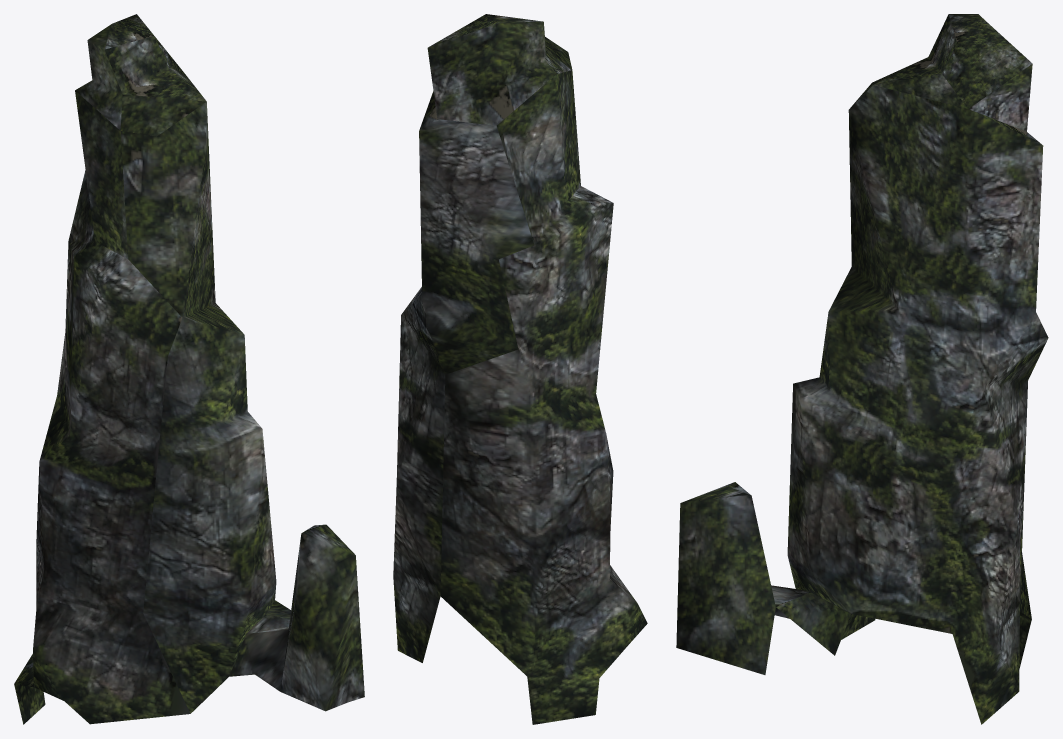
The model's file is qys_shanshi04_LOD2.FBX.
The picture shows the model from 3 angles, left to right: view 1: azimuth 30°, elevation 25°; view 2: azimuth 150°, elevation 25°; view 3: azimuth 270°, elevation 25°; orthographic projection.
Parts seen in each view (by area): view 1: qys_shanshi04_LOD2; view 2: qys_shanshi04_LOD2; view 3: qys_shanshi04_LOD2.
Part boxes in pixels (x1,y1,x2,y2): qys_shanshi04_LOD2: (14,14,364,724); qys_shanshi04_LOD2: (393,14,647,724); qys_shanshi04_LOD2: (676,14,1048,724).
Size of the model in its own units: 3520 by 10448 by 5207.
